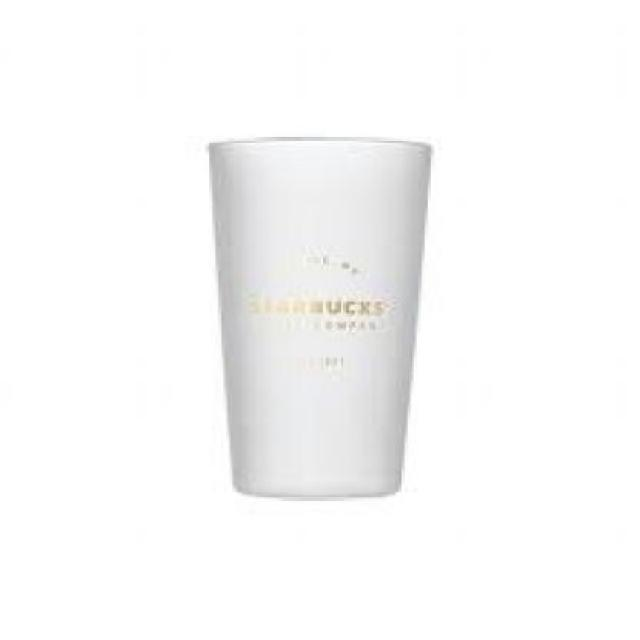kaca: (203, 134, 428, 495)
